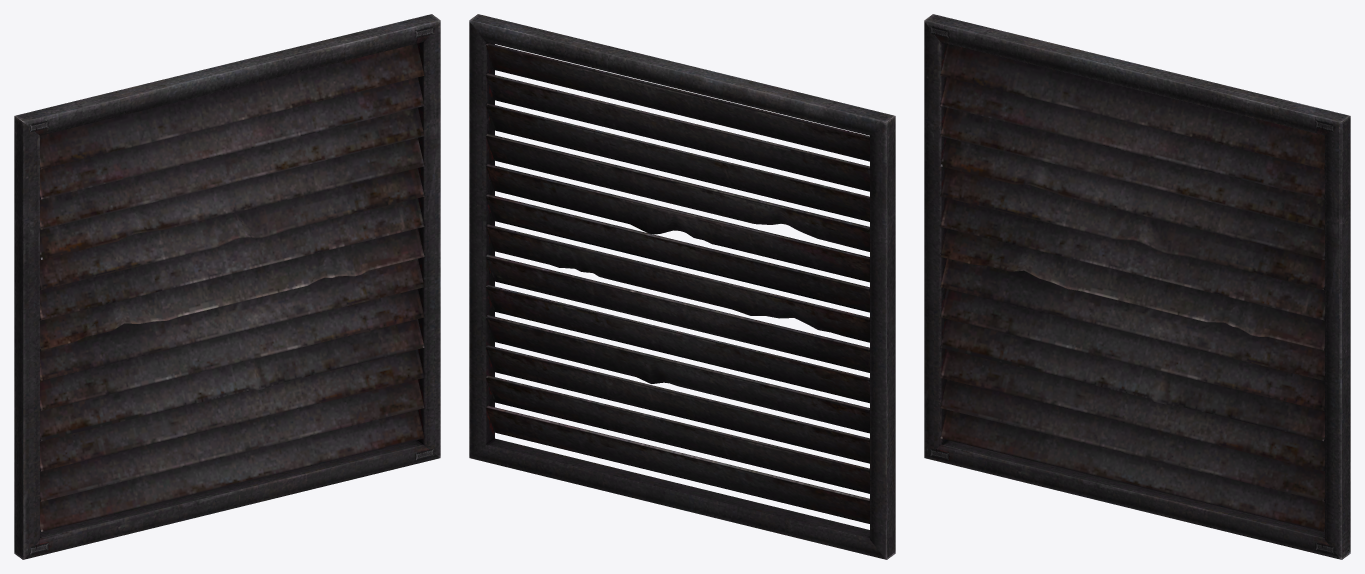
File: hatch_ventilation_grated.dae
3 renders of one model, left to right at view 1: azimuth 30°, elevation 25°; view 2: azimuth 150°, elevation 25°; view 3: azimuth 330°, elevation 25°, orthographic.
Parts seen in each view (by area): view 1: hatch_ventilation_grated; view 2: hatch_ventilation_grated; view 3: hatch_ventilation_grated.
Part boxes in pixels (left/top/right/bottom): hatch_ventilation_grated: left=14, top=14, right=440, bottom=559; hatch_ventilation_grated: left=469, top=14, right=895, bottom=559; hatch_ventilation_grated: left=924, top=14, right=1350, bottom=559.
Bounding box in the file's own units: 125 × 125 × 6.93.
